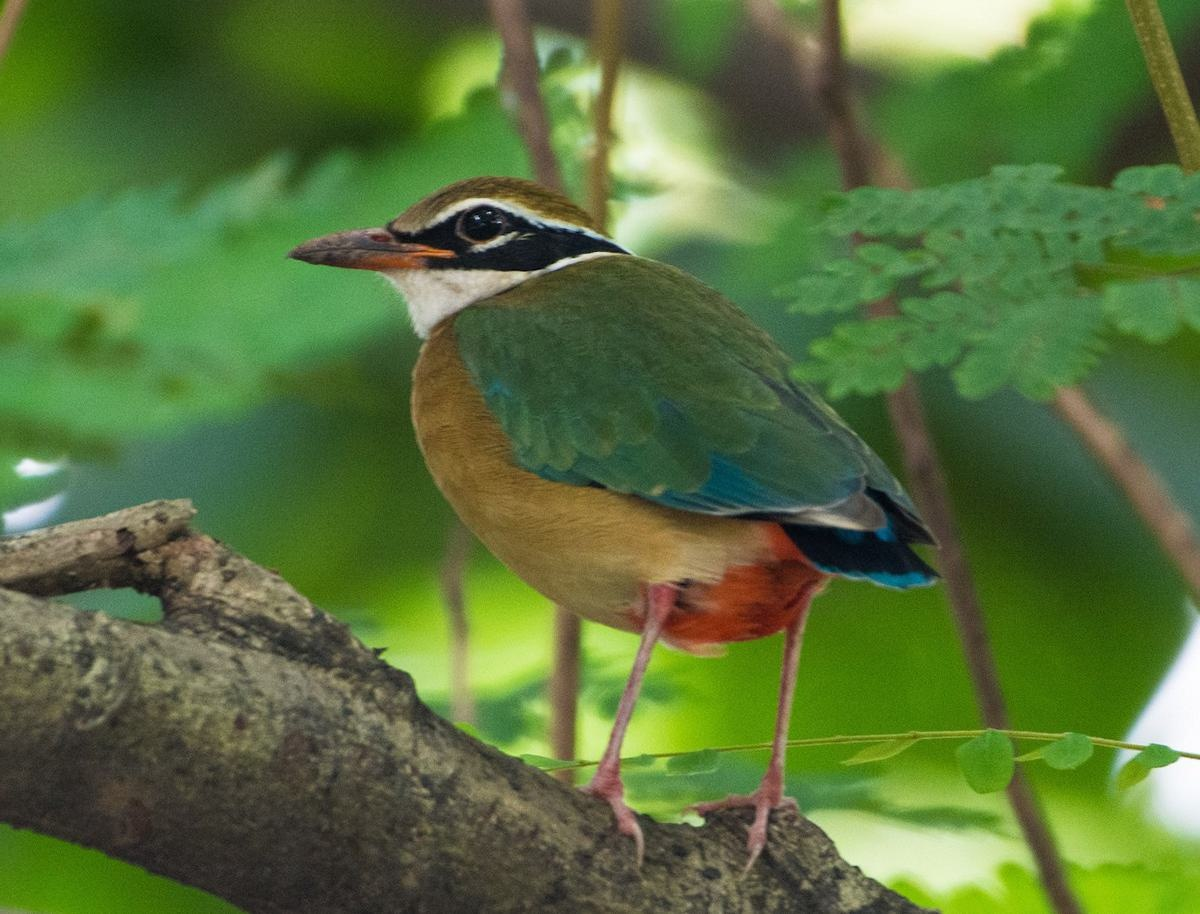pitta: (288, 147, 938, 752)
